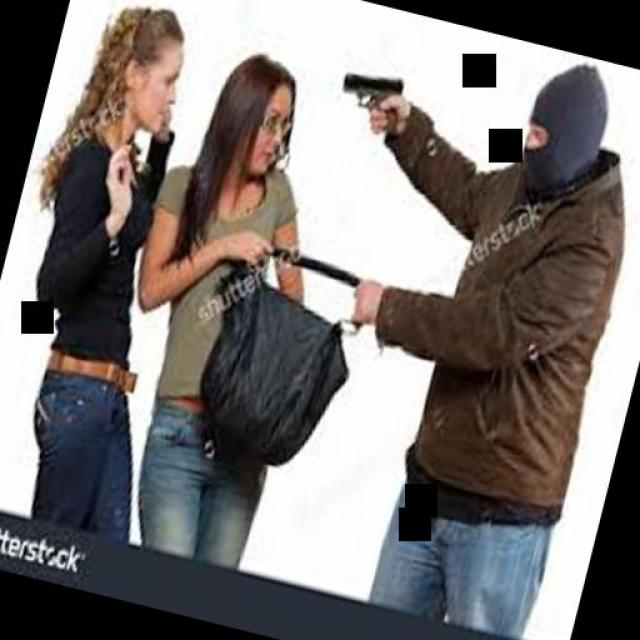gun: (328, 54, 423, 150)
